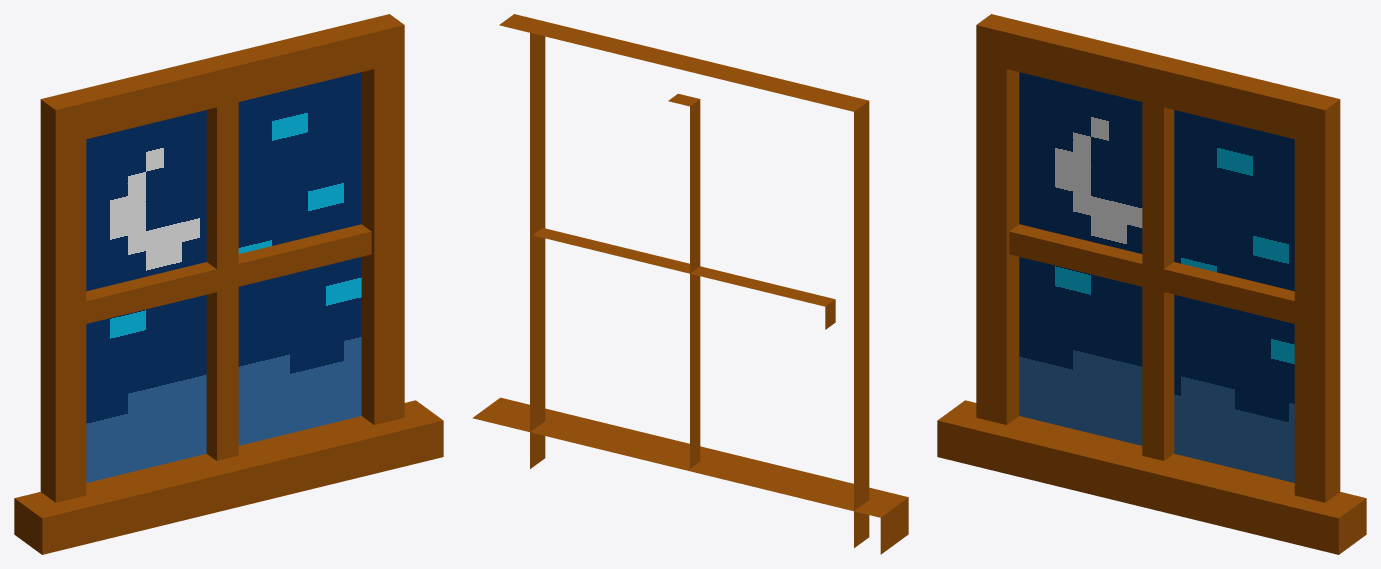
Rendered from window.glb.
3 renders of one model, left to right at view 1: azimuth 30°, elevation 25°; view 2: azimuth 150°, elevation 25°; view 3: azimuth 330°, elevation 25°, orthographic.
Parts seen in each view (by area): view 1: SideL; view 2: SideL; view 3: SideL.
Boxes of the visible parts, <box> form: SideL: <box>14,14,443,554</box>; SideL: <box>472,14,908,554</box>; SideL: <box>937,14,1366,554</box>.
Bounding box in the file's own units: 0.92 × 0.94 × 0.11.
Materials: 2 (1 with a texture image).
